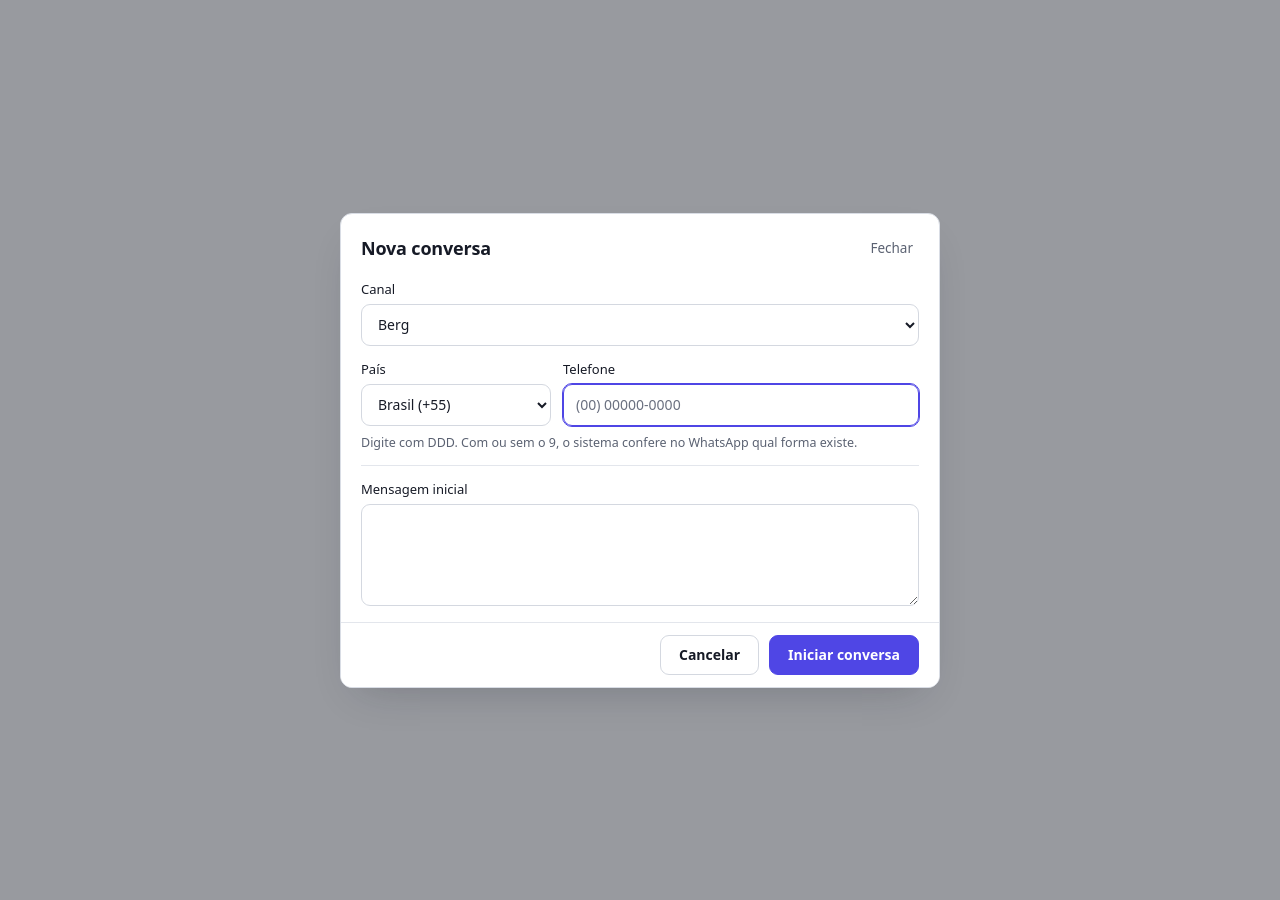
Test case: StartConversationModal › shows an error and keeps the modal open when the API rejects
This screenshot has width=1280, height=900.
In the field labelled "Telefone": [741, 404] box [563, 384, 919, 426], type "98999990000"
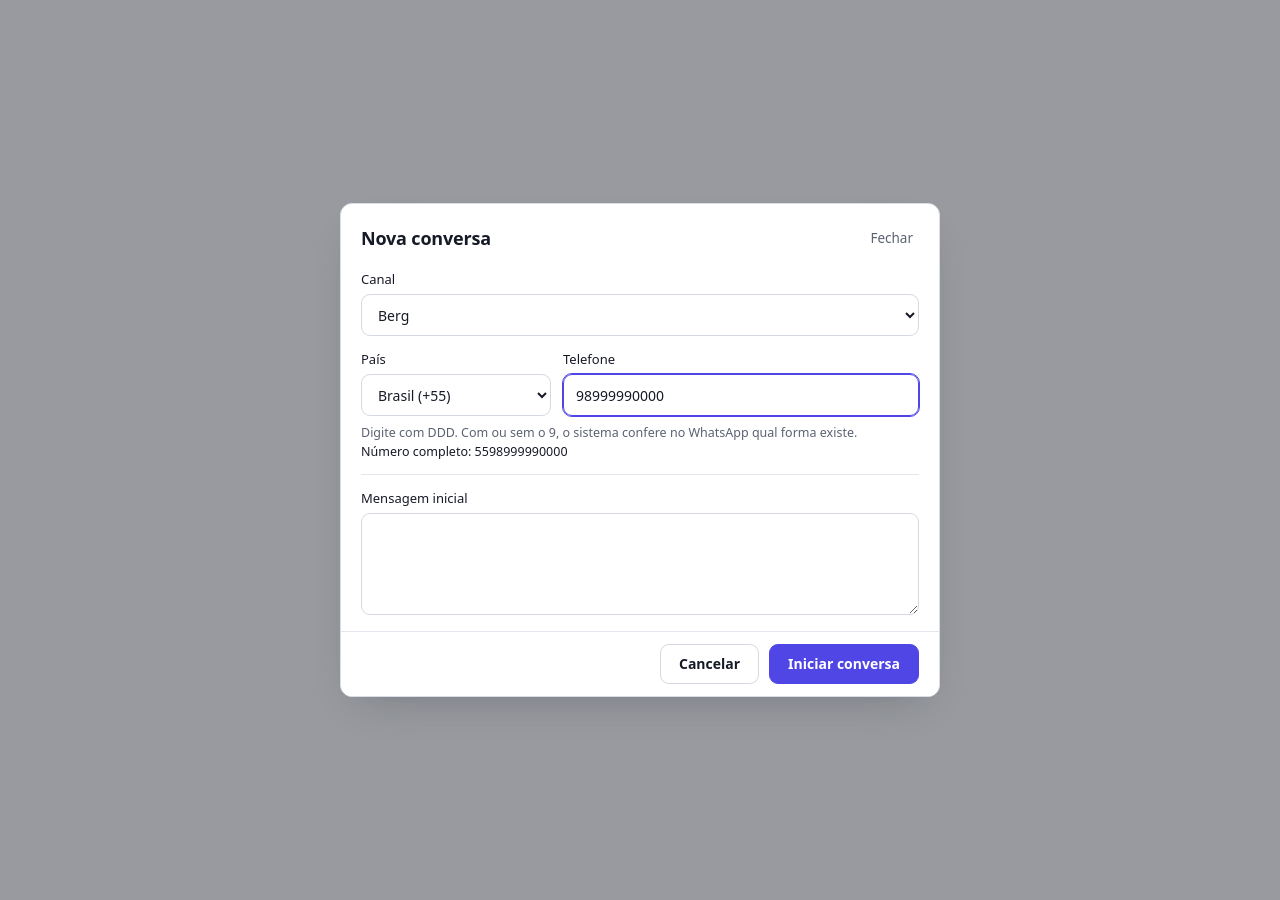
In the text box labelled "Mensagem inicial": [640, 564] box [361, 513, 919, 615], type "Oi"
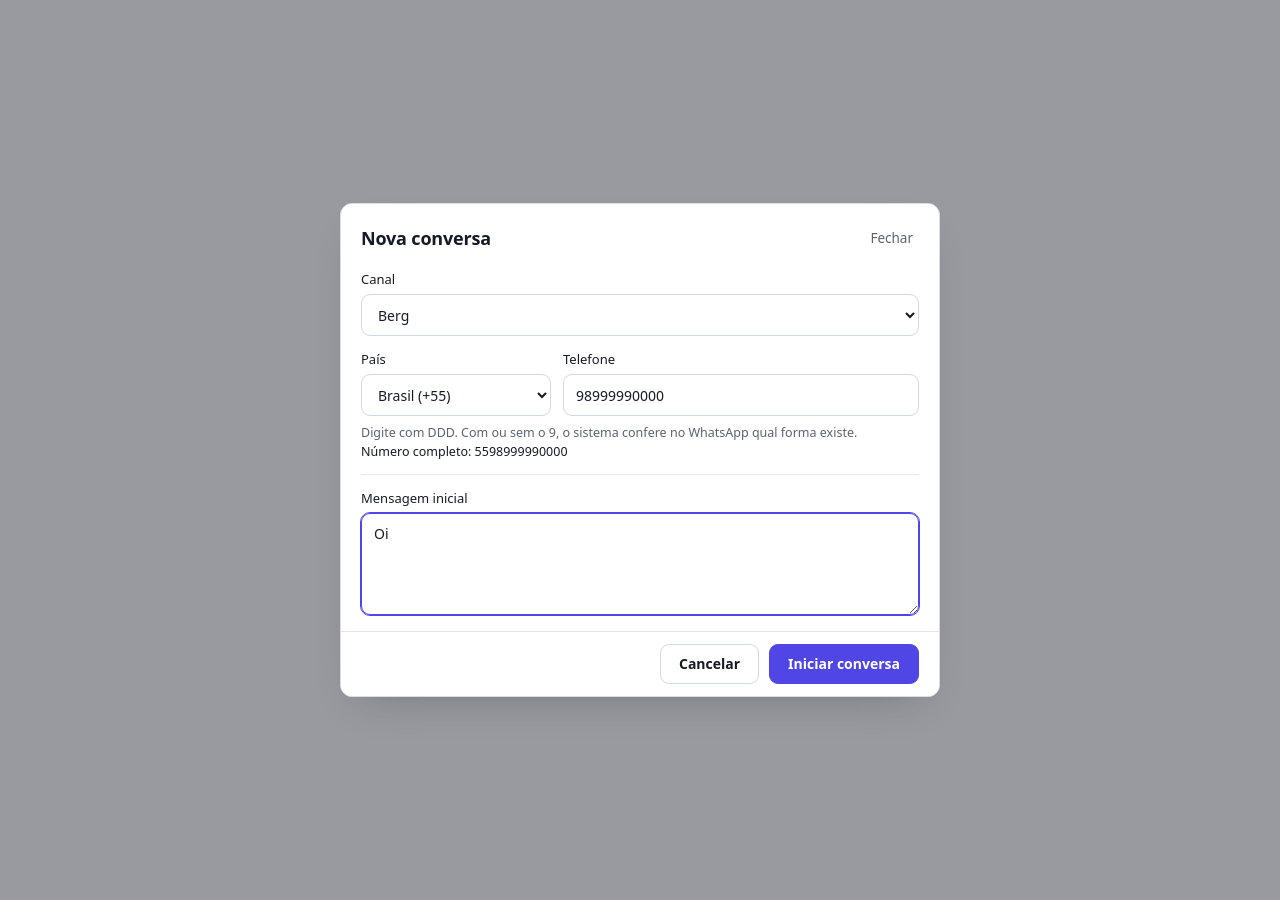
Click the button "Iniciar conversa": [844, 664] box [769, 644, 919, 684]
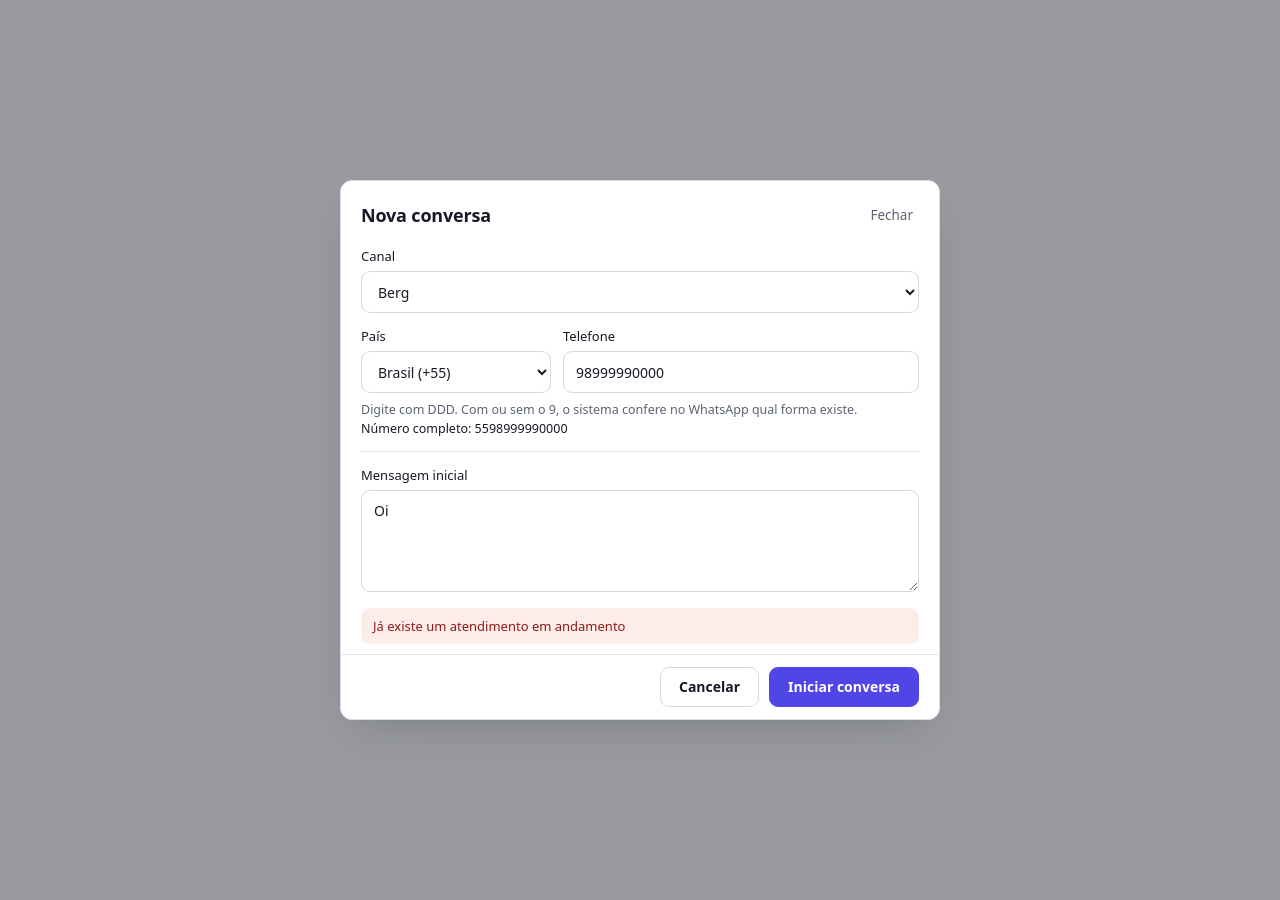
Result: the text "Já existe um atendimento em andamento" is shown at [361, 608, 919, 644]
